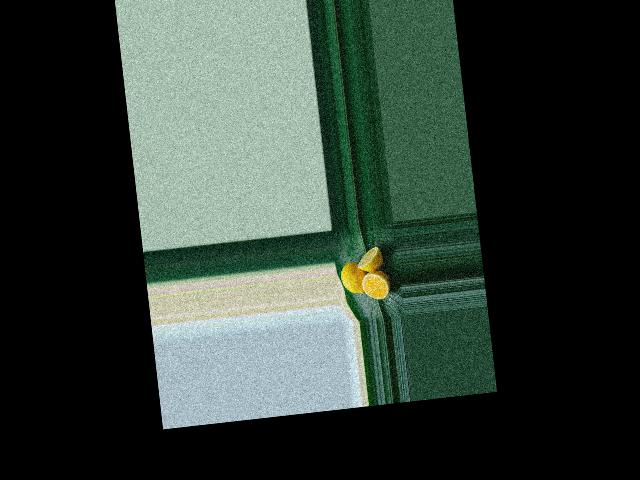lemon: (339, 260, 370, 300)
